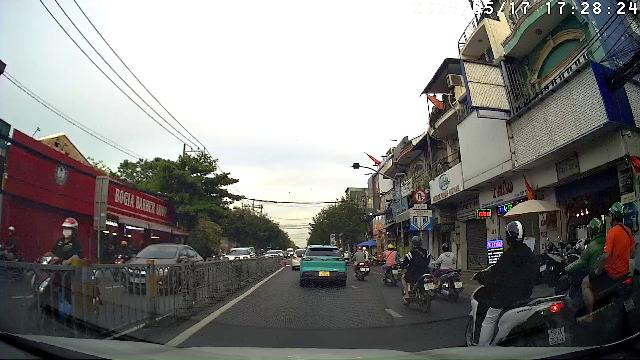124b-cam-oto-quay-dau-xe: (413, 189, 427, 203)
